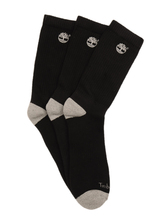sock: (25, 10, 145, 212)
